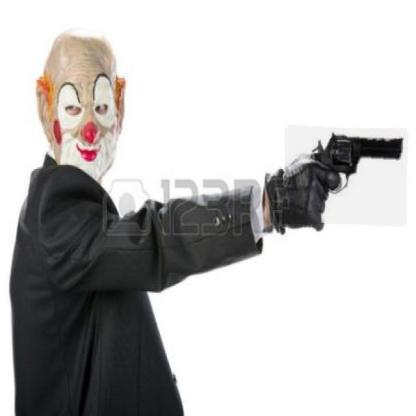handgun: (284, 126, 408, 226)
